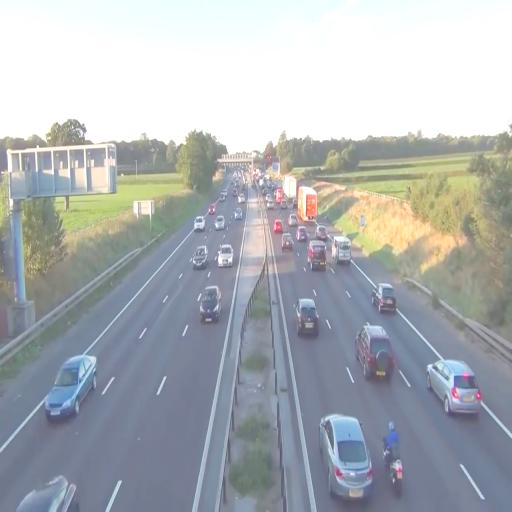vehicle: (319, 412, 374, 502), (44, 352, 98, 422), (425, 358, 482, 417), (15, 475, 77, 512), (355, 323, 394, 380), (294, 296, 320, 338), (198, 285, 222, 324), (297, 184, 317, 222), (374, 283, 396, 314), (307, 239, 326, 272), (216, 244, 234, 268), (191, 245, 208, 269), (336, 239, 352, 264), (282, 234, 294, 252), (214, 215, 226, 232), (194, 217, 206, 232), (235, 207, 243, 221)
